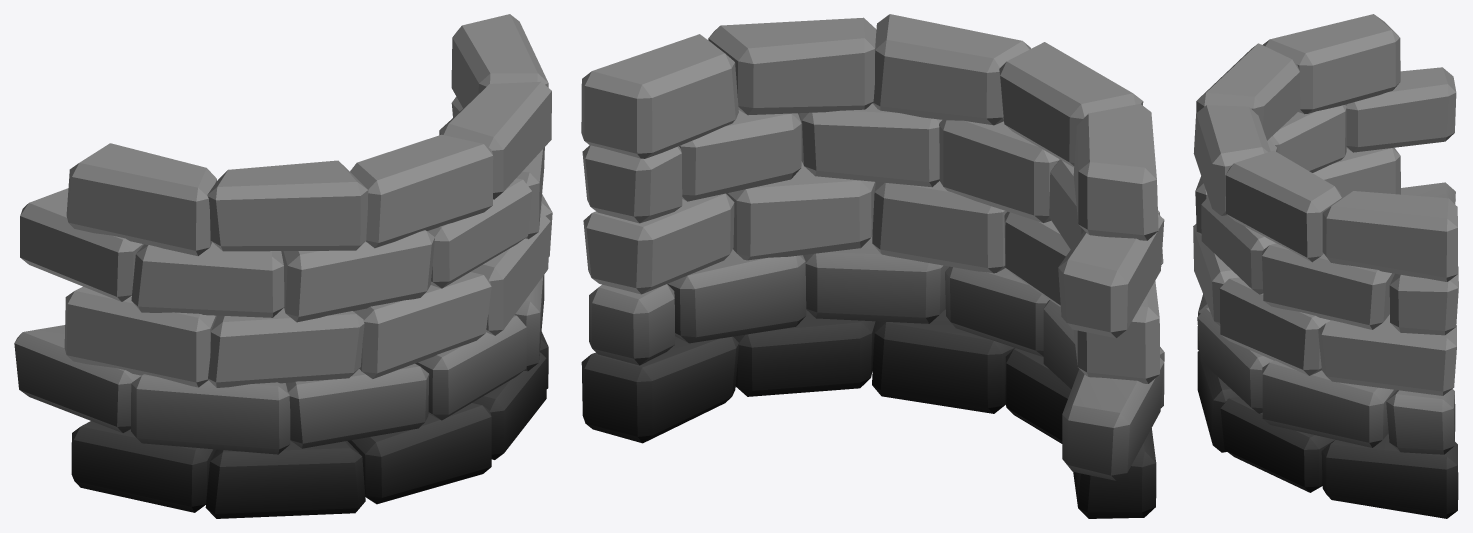
File: BrickWall2x1_01_T180_End_L.fbx
3 views of the same model, side by side, from view 1: azimuth 30°, elevation 25°; view 2: azimuth 150°, elevation 25°; view 3: azimuth 270°, elevation 25° (orthographic). The views are drawn at different scales.
Visible parts, largest first — view 1: BrickWall2x1_01_T180_End_L; view 2: BrickWall2x1_01_T180_End_L; view 3: BrickWall2x1_01_T180_End_L.
Part boxes in pixels (bbox=[...]): BrickWall2x1_01_T180_End_L: bbox=[14, 14, 552, 518]; BrickWall2x1_01_T180_End_L: bbox=[581, 14, 1164, 518]; BrickWall2x1_01_T180_End_L: bbox=[1193, 14, 1458, 518].
Bounding box in the file's own units: 162 × 101 × 81.06.
